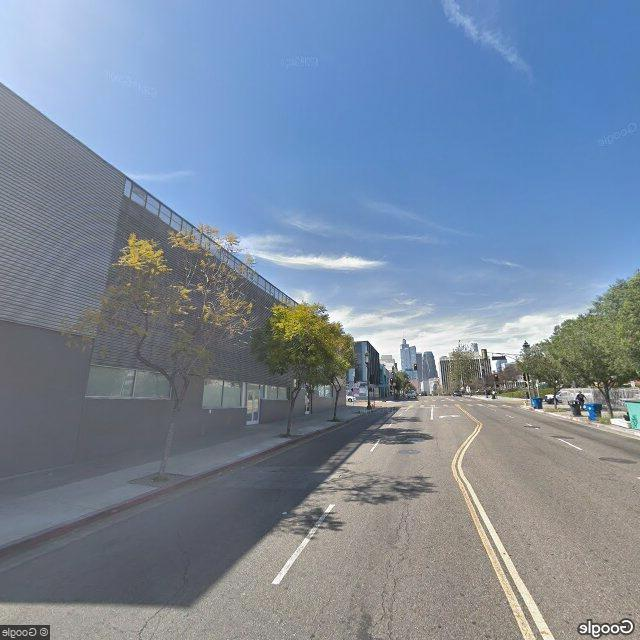crack: (367, 508, 420, 638)
pothole: (122, 537, 200, 639)
